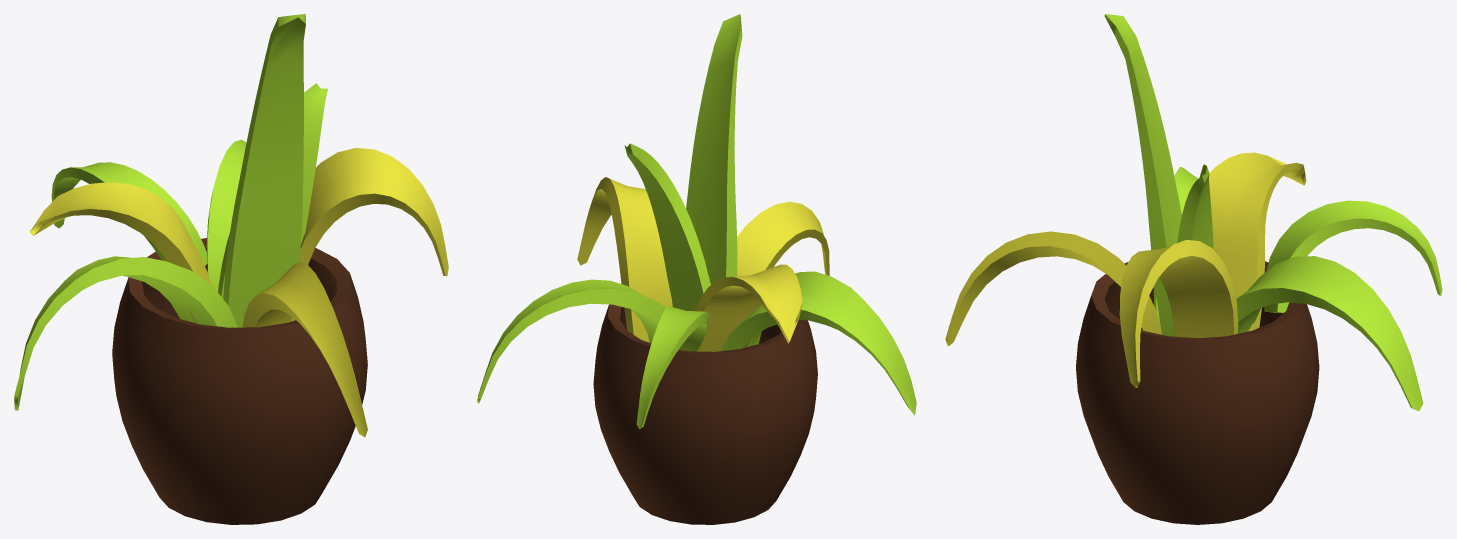
File: Plant.fbx
3 renders of one model, left to right at view 1: azimuth 30°, elevation 25°; view 2: azimuth 150°, elevation 25°; view 3: azimuth 270°, elevation 25°, orthographic. The views are drawn at different scales.
Parts seen in each view (by area): view 1: Plant_Uv; view 2: Plant_Uv; view 3: Plant_Uv.
Boxes of the visible parts, x1,y1,x2,y2 form: Plant_Uv: (14, 14, 448, 524); Plant_Uv: (477, 14, 916, 524); Plant_Uv: (945, 14, 1442, 524).
Bounding box in the file's own units: 952 × 1135 × 1055.
